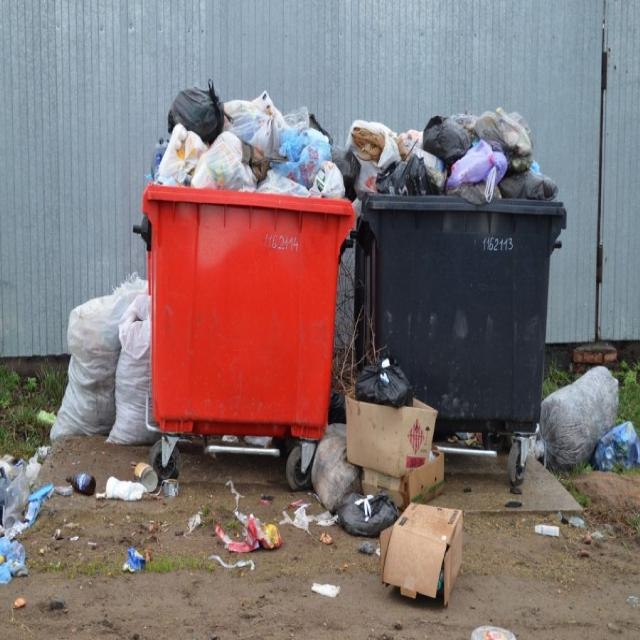bin: (133, 184, 356, 437), (356, 202, 568, 426)
plastic: (144, 77, 560, 200), (311, 352, 464, 606), (51, 272, 153, 443), (0, 447, 96, 584), (534, 365, 640, 474), (215, 480, 283, 554), (97, 463, 158, 502), (278, 499, 338, 535), (208, 551, 256, 571), (471, 625, 516, 640), (121, 548, 147, 573), (557, 511, 586, 529), (312, 583, 341, 600), (534, 525, 560, 537), (163, 478, 178, 498), (187, 513, 201, 532), (14, 596, 26, 609)
